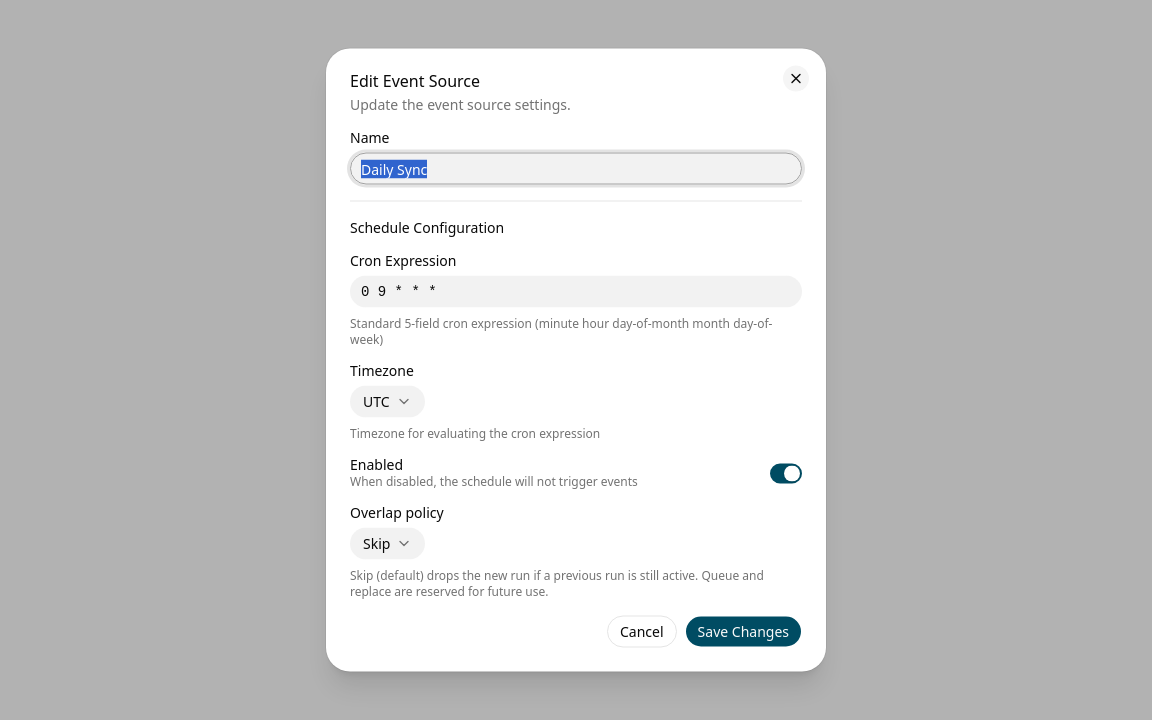
EditEventSourceDialog — schedule › renders the overlap policy select with three options and defaults to skip
// Open the dropdown and verify all three options are present
Click the dropdown named "overlap policy".
click(388, 544)  # box [350,528,425,560]
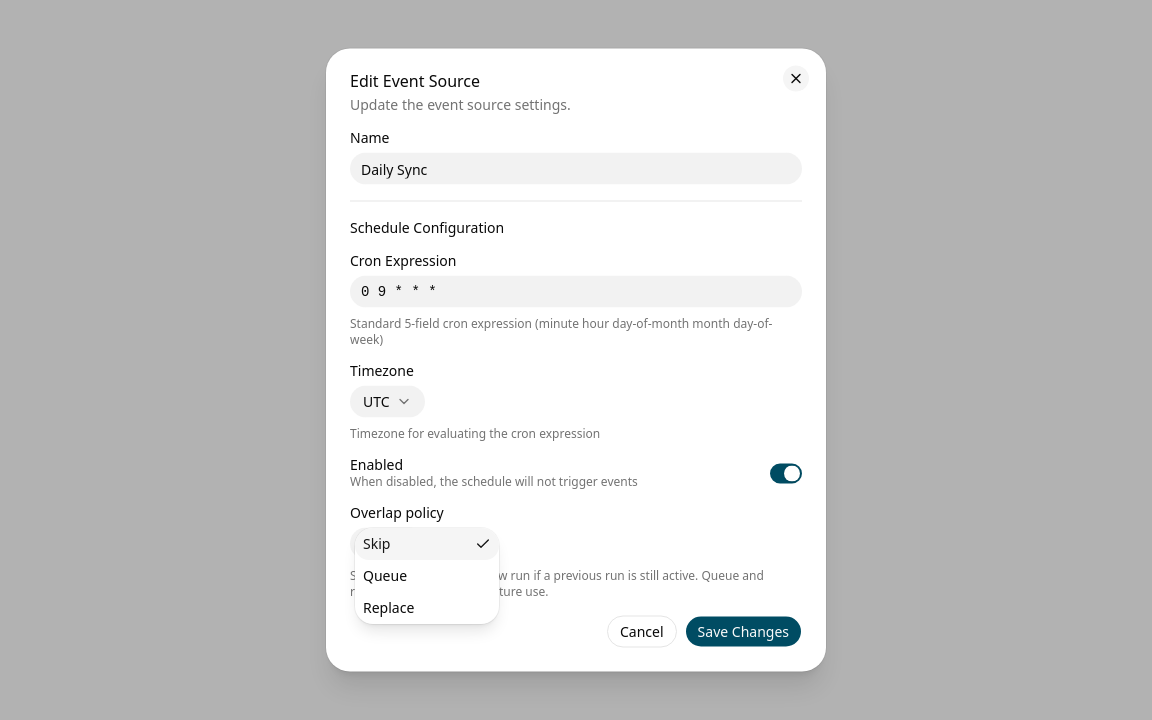
Expected: the option "Skip" is shown, [355,528,499,560]
Expected: the option "Queue" is shown, [363,566,407,584]
Expected: the option "Replace" is shown, [363,598,414,616]
